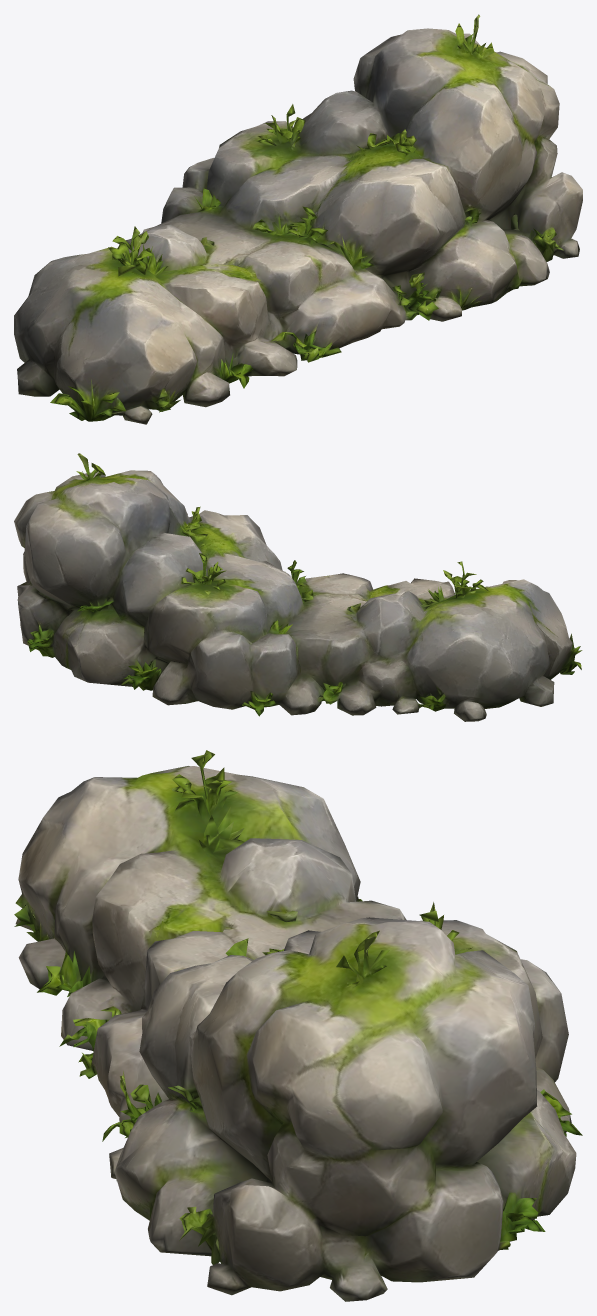
3 views of the same model, one above another, from view 1: azimuth 30°, elevation 25°; view 2: azimuth 150°, elevation 25°; view 3: azimuth 270°, elevation 25° (orthographic). The views are drawn at different scales.
Parts seen in each view (by area): view 1: tripo_node_69ca407c-e357-43b2-83fe-35da13610d99; view 2: tripo_node_69ca407c-e357-43b2-83fe-35da13610d99; view 3: tripo_node_69ca407c-e357-43b2-83fe-35da13610d99.
Boxes of the visible parts, x1,y1,x2,y2 form: tripo_node_69ca407c-e357-43b2-83fe-35da13610d99: (14, 14, 582, 424); tripo_node_69ca407c-e357-43b2-83fe-35da13610d99: (14, 453, 582, 721); tripo_node_69ca407c-e357-43b2-83fe-35da13610d99: (14, 750, 582, 1301).
Size of the model in its own units: 0.9807 by 0.3445 by 0.5515.
1 material, 1 textured.
